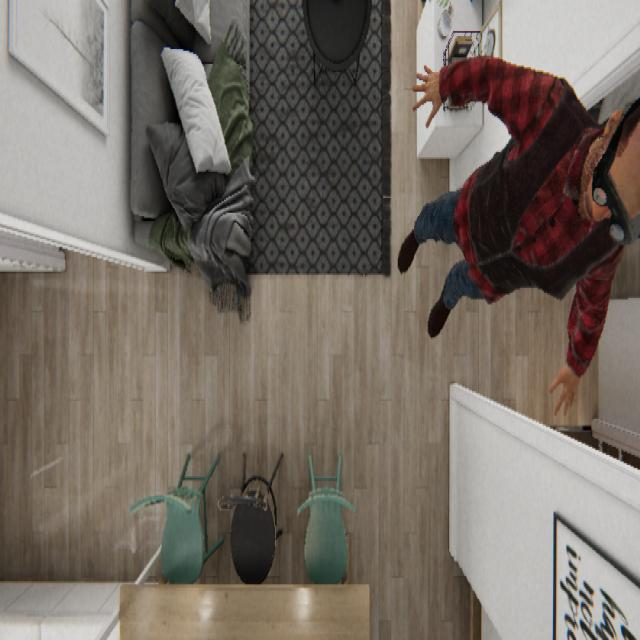Human: (396, 52, 638, 418)
